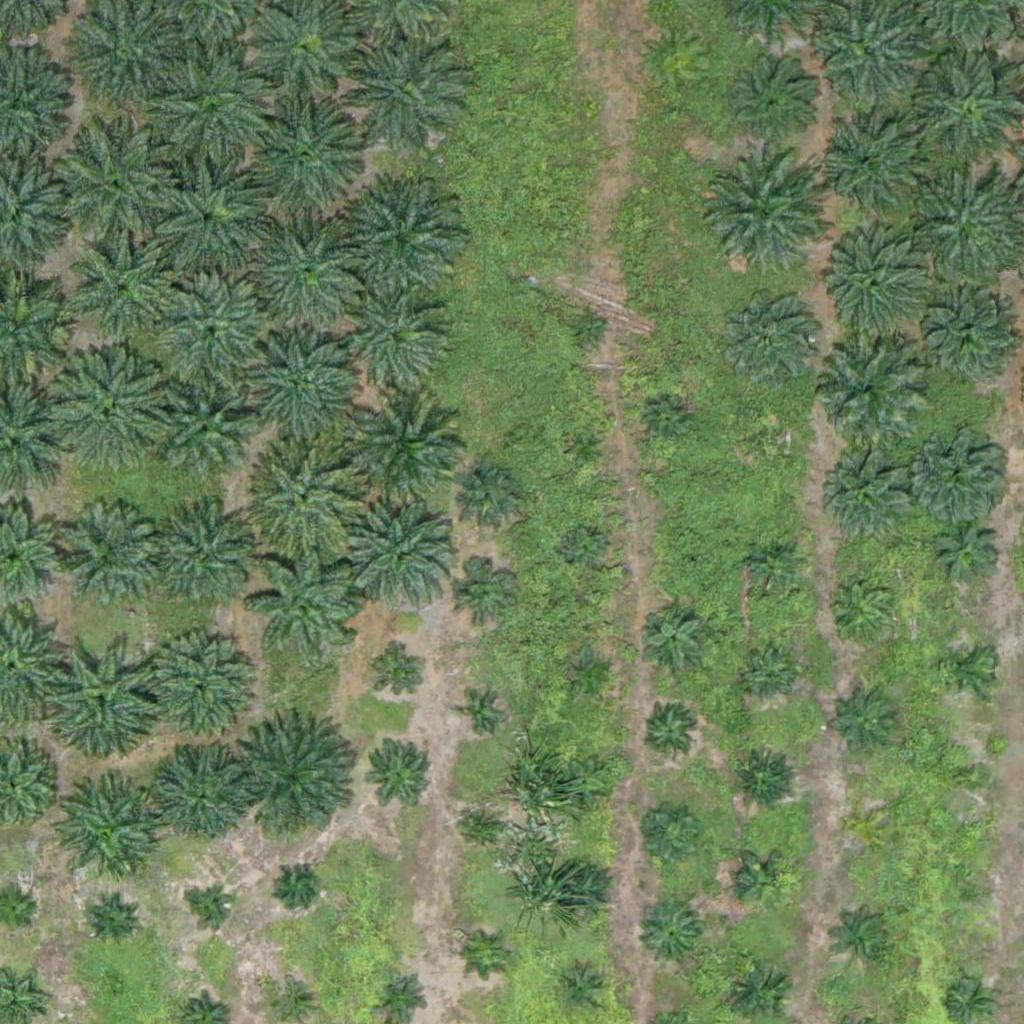Kelapa_Sawit: (51, 123, 176, 249), (147, 54, 272, 180), (141, 157, 266, 283), (149, 279, 274, 405), (236, 330, 361, 456), (244, 216, 369, 342), (239, 95, 364, 221), (341, 33, 466, 159), (337, 178, 462, 304), (348, 398, 473, 524), (697, 149, 822, 275), (42, 637, 167, 763), (49, 350, 174, 475), (238, 718, 363, 843), (808, 332, 921, 445), (250, 545, 363, 658), (139, 631, 252, 744), (815, 228, 927, 341), (347, 505, 459, 618), (251, 440, 363, 553), (48, 781, 160, 894), (74, 241, 174, 342), (348, 293, 448, 394), (718, 288, 818, 389), (821, 116, 921, 217), (919, 288, 1019, 389), (914, 423, 1014, 524), (149, 742, 249, 843), (155, 507, 255, 608), (54, 506, 154, 607), (255, 3, 355, 103), (159, 389, 246, 478), (730, 53, 817, 141), (827, 456, 914, 544), (630, 798, 705, 874), (362, 734, 437, 809), (553, 862, 616, 925), (449, 561, 512, 624), (459, 463, 522, 526), (833, 691, 896, 754), (732, 746, 795, 809), (742, 536, 805, 599), (638, 903, 700, 966), (836, 908, 898, 971), (639, 605, 701, 668), (935, 518, 997, 581), (833, 581, 895, 644), (557, 966, 607, 1017), (376, 651, 426, 702), (941, 641, 991, 692), (564, 760, 614, 811), (738, 855, 788, 905), (87, 894, 137, 944), (646, 707, 696, 757), (740, 648, 790, 698), (377, 971, 427, 1021), (471, 936, 509, 974), (278, 864, 316, 902), (564, 527, 602, 565), (568, 429, 606, 467), (569, 310, 607, 348), (571, 653, 609, 691), (195, 890, 232, 928), (754, 423, 792, 460), (650, 403, 687, 441), (462, 698, 499, 735), (466, 808, 503, 845), (959, 878, 984, 903), (959, 762, 984, 787), (854, 816, 879, 841), (681, 553, 706, 578)
